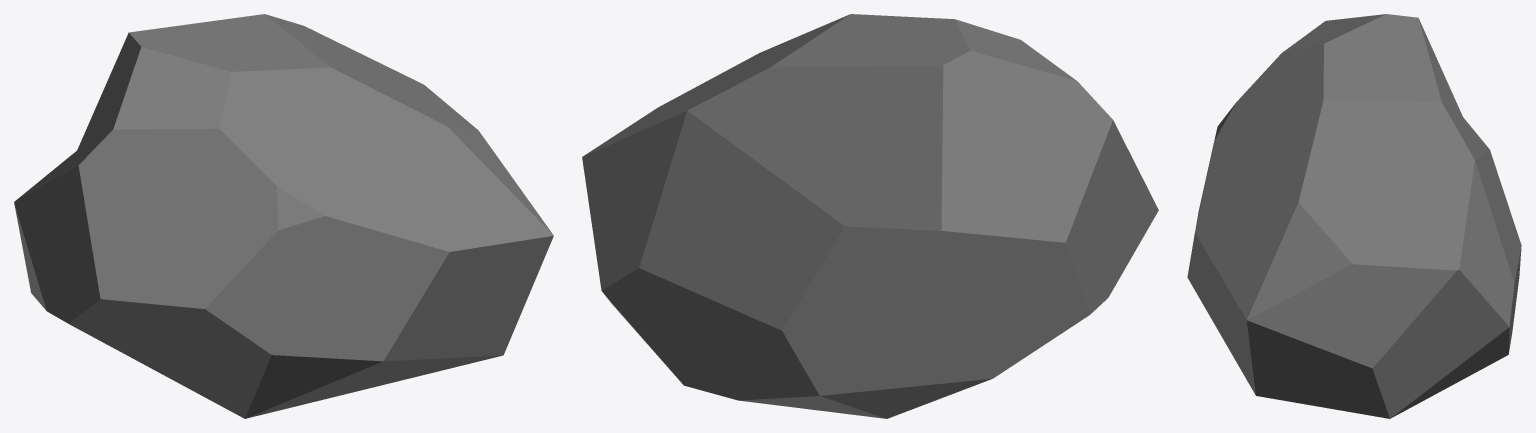
Rendered from Rock.fbx.
3 renders of one model, left to right at view 1: azimuth 30°, elevation 25°; view 2: azimuth 150°, elevation 25°; view 3: azimuth 270°, elevation 25°, orthographic. The views are drawn at different scales.
Visible parts, largest first — view 1: Rock_05; view 2: Rock_05; view 3: Rock_05.
Part boxes in pixels (x1=…): Rock_05: x1=14, y1=14, x2=553, y2=418; Rock_05: x1=582, y1=14, x2=1158, y2=418; Rock_05: x1=1187, y1=14, x2=1521, y2=418.
Bounding box in the file's own units: 3.32 × 2.2 × 2.48.
